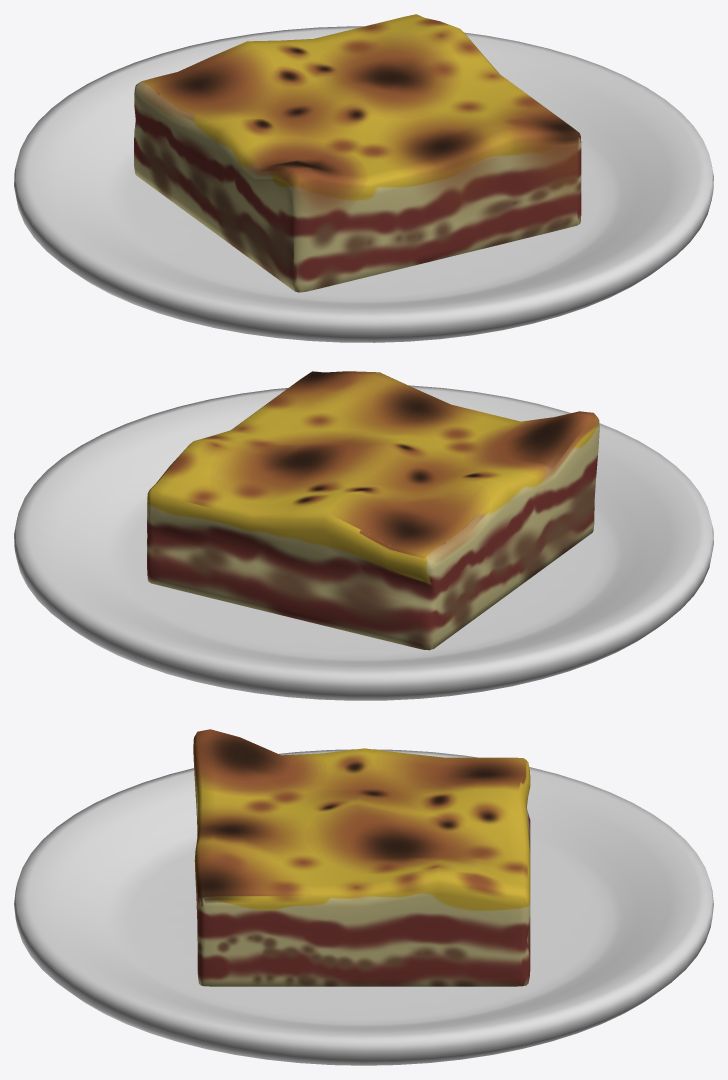
Rendered from Lasagna.fbx.
3 views of the same model, one above another, from view 1: azimuth 30°, elevation 25°; view 2: azimuth 150°, elevation 25°; view 3: azimuth 270°, elevation 25° (orthographic).
Parts seen in each view (by area): view 1: LasPlate, Lasanga; view 2: Lasanga, LasPlate; view 3: LasPlate, Lasanga.
Part boxes in pixels (bbox=[...]): LasPlate: bbox=[14, 26, 713, 342]; Lasanga: bbox=[134, 14, 581, 292]; Lasanga: bbox=[147, 371, 599, 650]; LasPlate: bbox=[14, 385, 713, 700]; LasPlate: bbox=[14, 749, 713, 1065]; Lasanga: bbox=[193, 729, 530, 986].
Size of the model in its own units: 66.8 by 16.37 by 66.8.
Materials: 2 (1 with a texture image).
